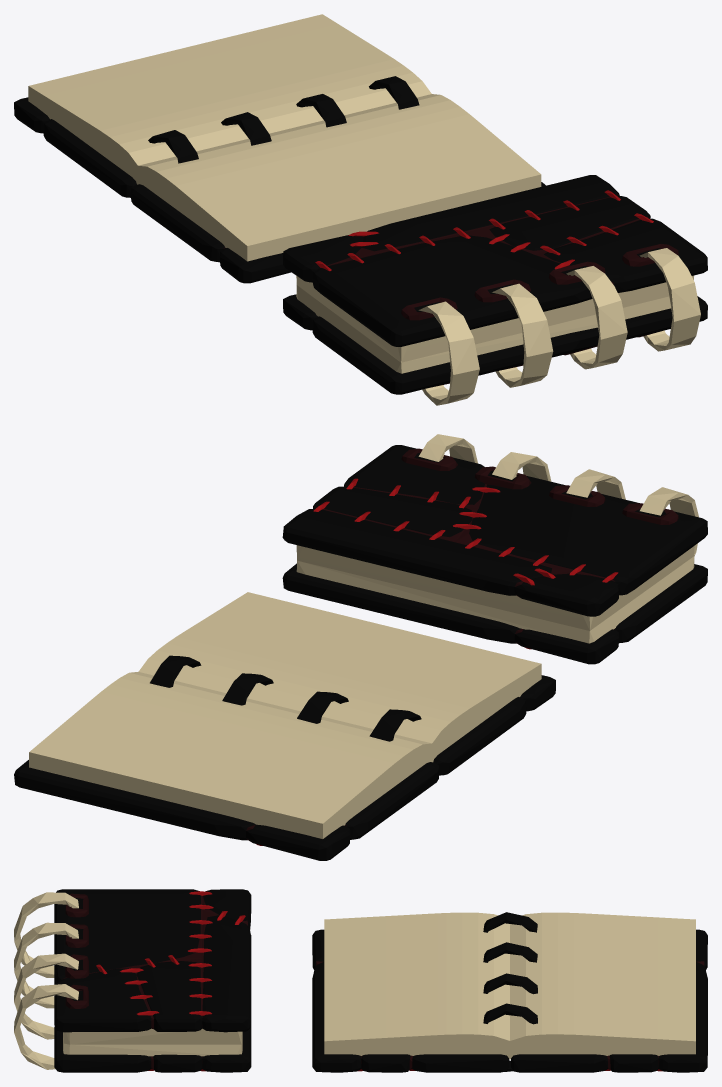
File: beserkBook.fbx
The picture shows the model from 3 angles, top to bottom: view 1: azimuth 30°, elevation 25°; view 2: azimuth 150°, elevation 25°; view 3: azimuth 270°, elevation 25°; orthographic projection. The views are drawn at different scales.
Visible parts, largest first — view 1: book2 open, book2; view 2: book2 open, book2; view 3: book2 open, book2.
Boxes of the visible parts, x1,y1,x2,y2 form: book2 open: (14,14,545,283); book2: (283,175,707,405); book2 open: (14,592,555,860); book2: (282,434,707,664); book2 open: (312,912,707,1072); book2: (14,889,251,1072).
Size of the model in its own units: 36.59 by 10.6 by 81.59.
